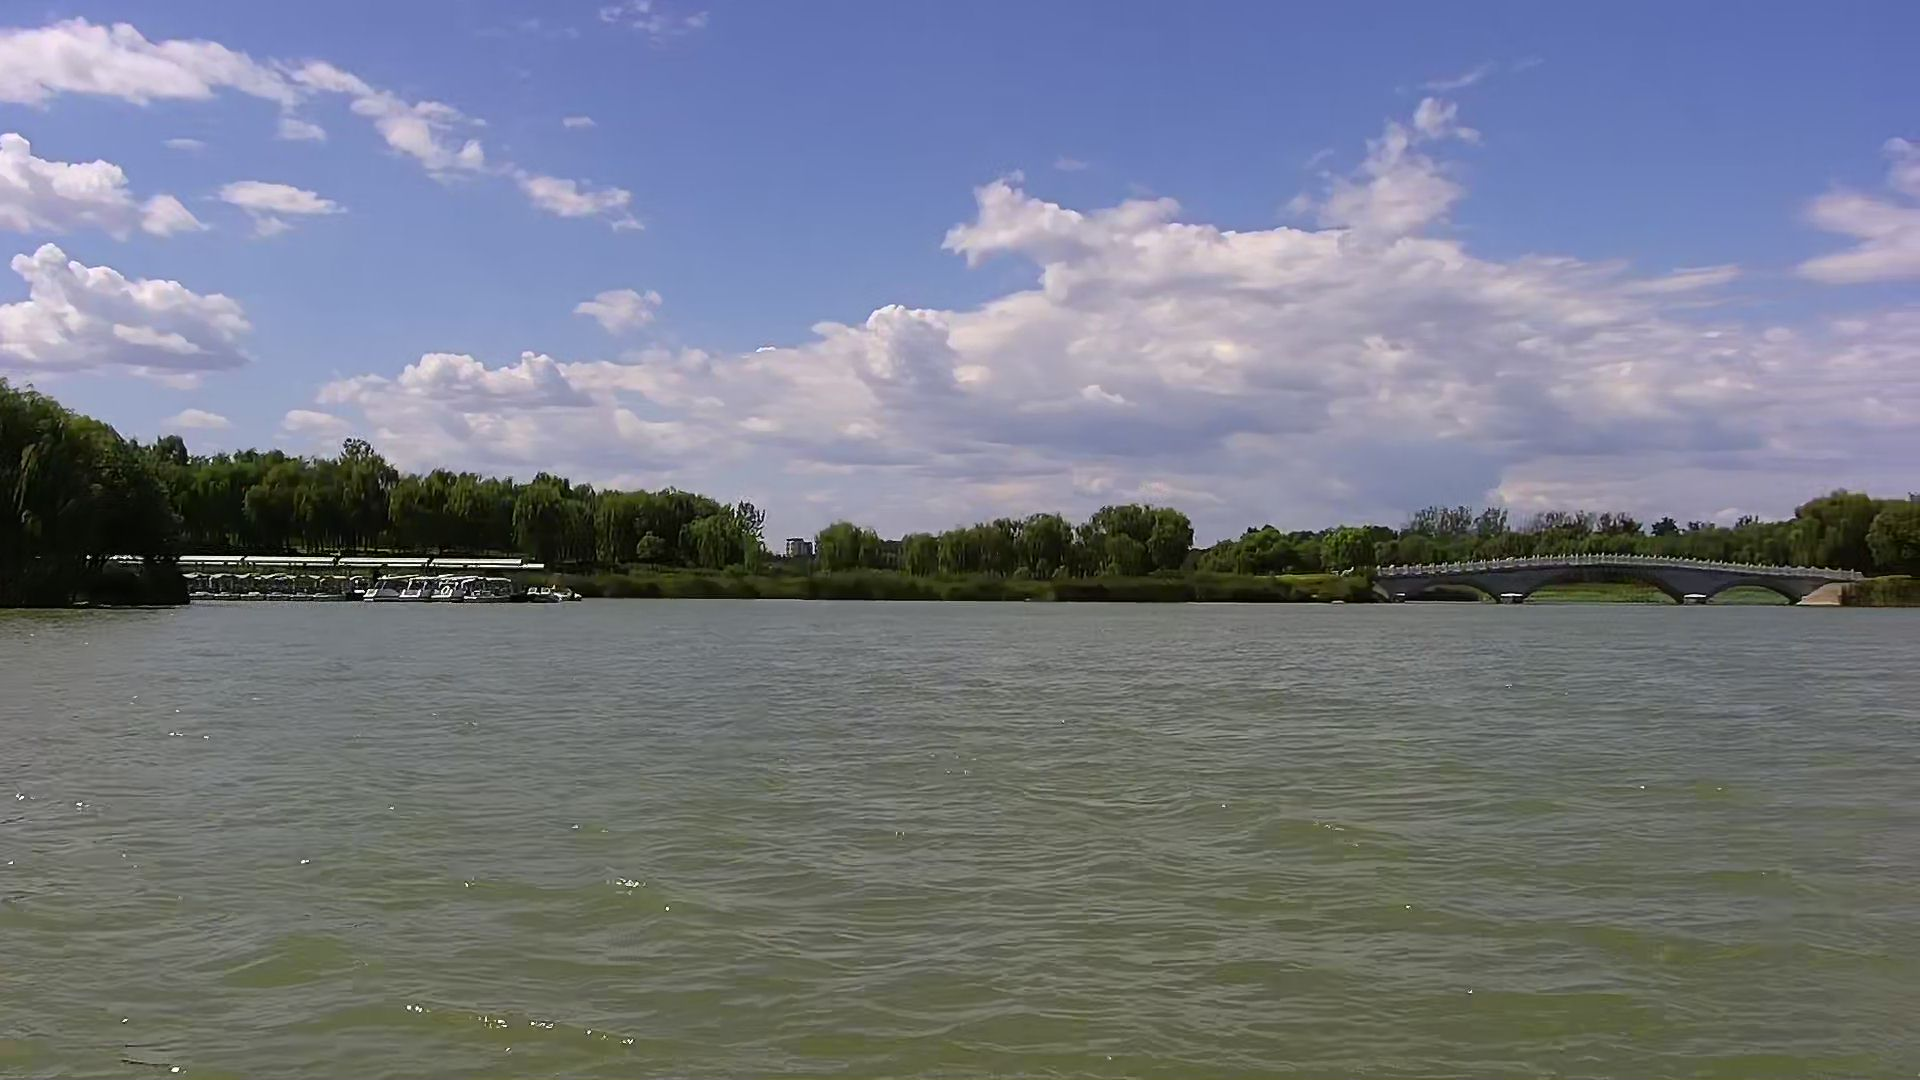bridge: (1362, 554, 1859, 607)
harbor: (174, 555, 568, 607)
